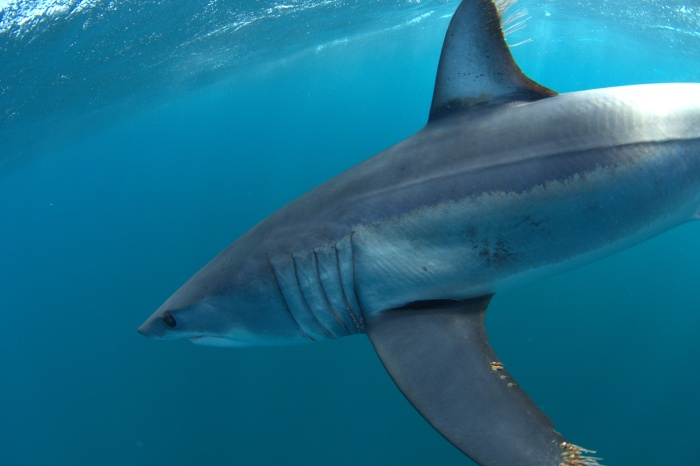Mako: (79, 1, 700, 465)
